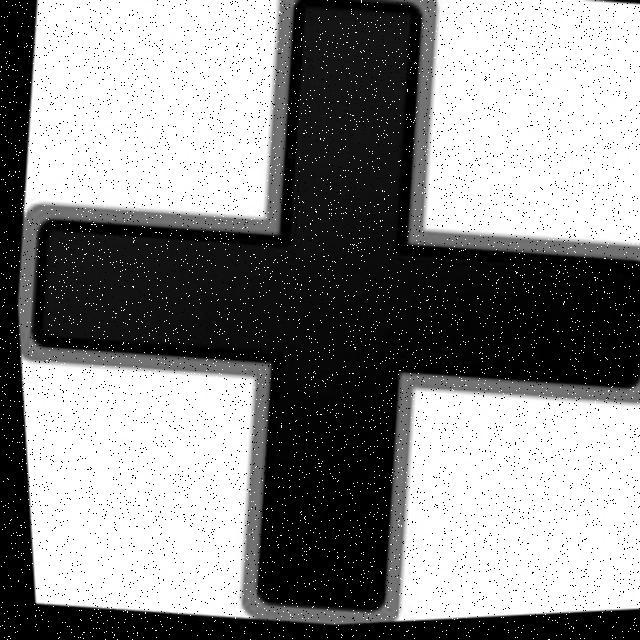cross: (27, 6, 640, 622)
